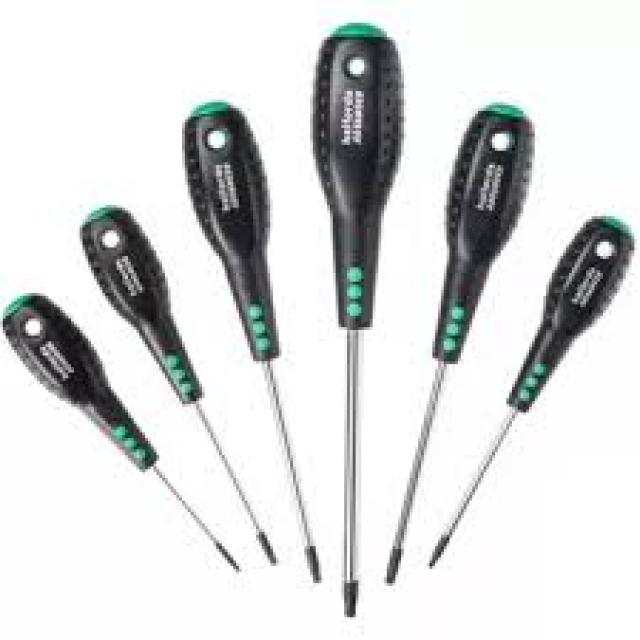Screwdriver: (54, 190, 290, 576), (380, 100, 548, 592), (421, 205, 640, 577), (169, 80, 326, 594), (0, 286, 247, 596), (308, 9, 406, 628)
